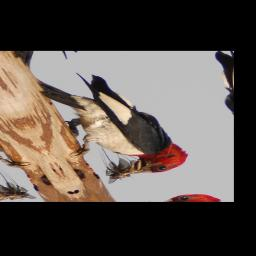Woodpecker: (18, 62, 196, 186)
